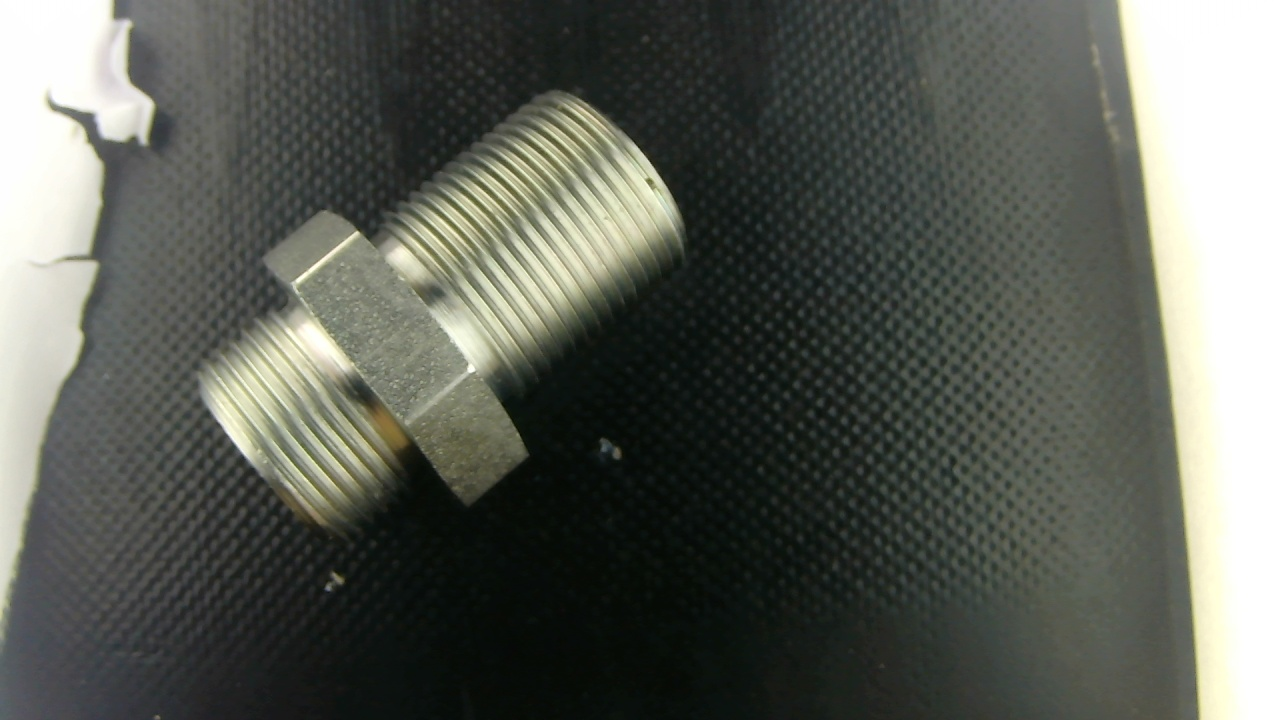okay_adapter: (198, 91, 684, 536)
